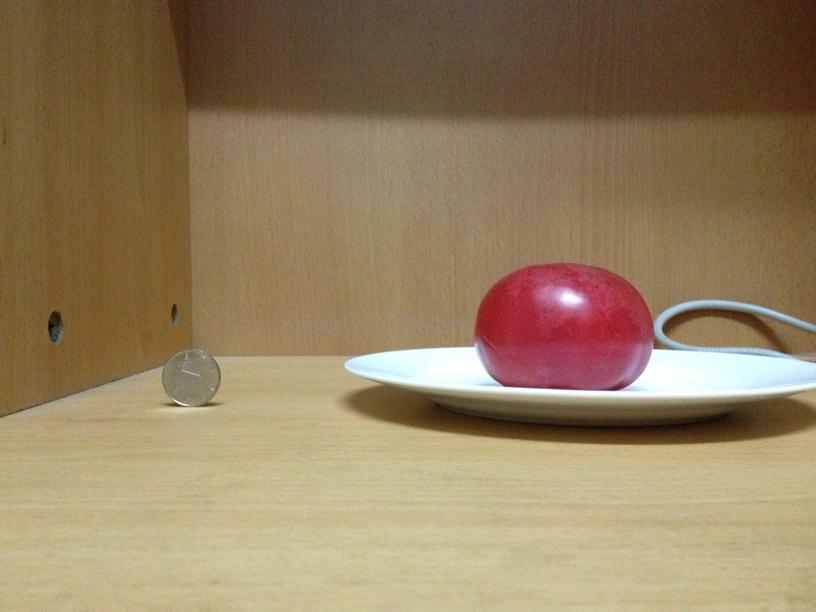coin: (161, 349, 222, 407)
tomato: (475, 264, 653, 389)
